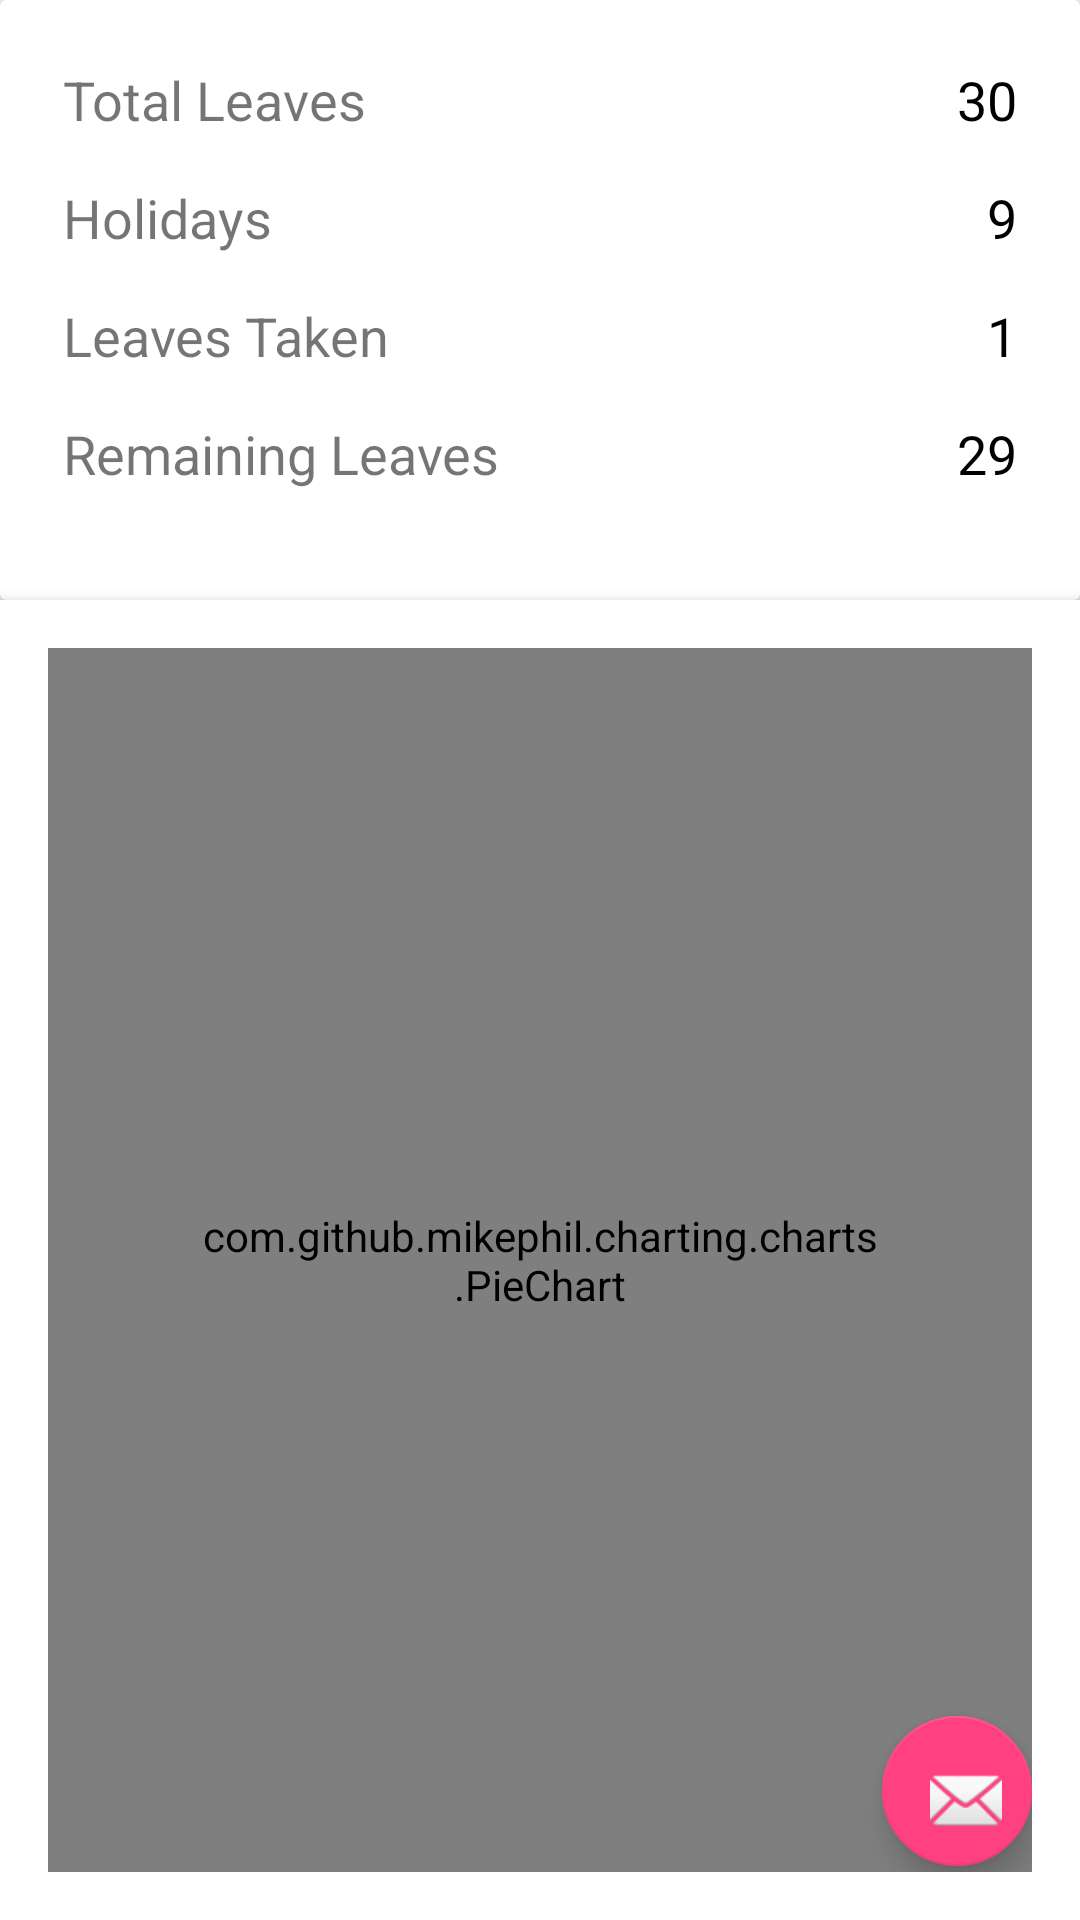

Named icons in this screenshot (1080×1920) and their bounding boxes, (x1, y1, x2, y2):
email: (882, 1716, 1032, 1866)
